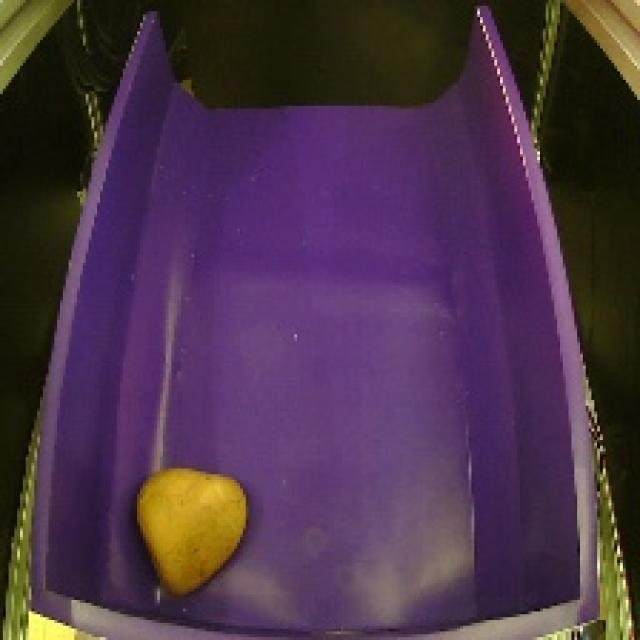cobbles: (127, 445, 261, 603)
